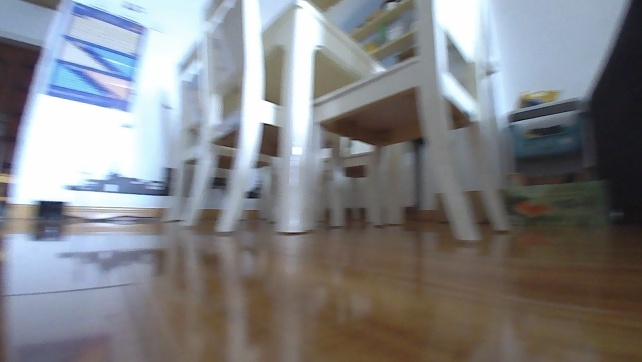dining_table: (158, 0, 515, 249)
wire: (61, 213, 159, 222)
